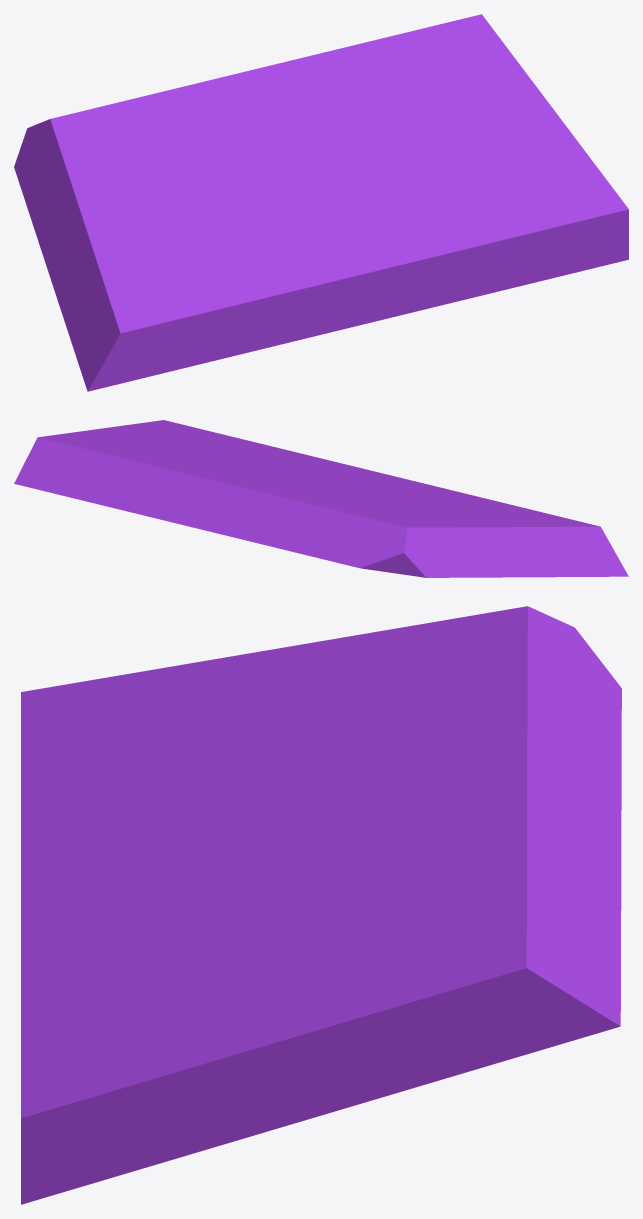
Rendered from Window_156_2_chunks.fbx.
3 views of the same model, one above another, from view 1: azimuth 30°, elevation 25°; view 2: azimuth 150°, elevation 25°; view 3: azimuth 270°, elevation 25° (orthographic). The views are drawn at different scales.
Visible parts, largest first — view 1: Window_156_2_9, Window_156_2_3, Window_156_2_10, Window_156_2_7, Window_156_2_5, Window_156_2_15, Window_156_2_19, Window_156_2_12, Window_156_2_21, Window_156_2_14, Window_156_2_6, Window_156_2_20 (+8 smaller); view 2: Window_156_2_9, Window_156_2_3, Window_156_2_4, Window_156_2_7, Window_156_2_0, Window_156_2_5, Window_156_2_6, Window_156_2_10, Window_156_2_13, Window_156_2_21, Window_156_2_14, Window_156_2_19 (+8 smaller); view 3: Window_156_2_9, Window_156_2_7, Window_156_2_5, Window_156_2_8, Window_156_2_19, Window_156_2_3, Window_156_2_21, Window_156_2_14, Window_156_2_6, Window_156_2_12, Window_156_2_4, Window_156_2_15 (+8 smaller).
Boxes of the visible parts, x1=… form: Window_156_2_9: x1=321, y1=14, x2=586, y2=154; Window_156_2_3: x1=19, y1=164, x2=203, y2=300; Window_156_2_10: x1=84, y1=276, x2=250, y2=391; Window_156_2_7: x1=225, y1=53, x2=384, y2=184; Window_156_2_5: x1=144, y1=76, x2=269, y2=207; Window_156_2_15: x1=354, y1=214, x2=529, y2=303; Window_156_2_19: x1=498, y1=146, x2=628, y2=272; Window_156_2_12: x1=198, y1=232, x2=337, y2=353; Window_156_2_21: x1=343, y1=140, x2=517, y2=212; Window_156_2_14: x1=229, y1=200, x2=381, y2=298; Window_156_2_6: x1=34, y1=105, x2=155, y2=171; Window_156_2_20: x1=405, y1=201, x2=576, y2=283; Window_156_2_9: x1=14, y1=425, x2=222, y2=513; Window_156_2_3: x1=399, y1=503, x2=547, y2=577; Window_156_2_4: x1=285, y1=506, x2=439, y2=577; Window_156_2_7: x1=135, y1=463, x2=329, y2=523; Window_156_2_0: x1=178, y1=495, x2=332, y2=561; Window_156_2_5: x1=256, y1=487, x2=413, y2=519; Window_156_2_6: x1=339, y1=508, x2=455, y2=557; Window_156_2_10: x1=488, y1=499, x2=628, y2=576; Window_156_2_13: x1=451, y1=505, x2=576, y2=569; Window_156_2_21: x1=173, y1=441, x2=313, y2=474; Window_156_2_14: x1=342, y1=472, x2=424, y2=499; Window_156_2_19: x1=133, y1=420, x2=220, y2=441; Window_156_2_9: x1=167, y1=833, x2=621, y2=1102; Window_156_2_7: x1=240, y1=752, x2=621, y2=907; Window_156_2_5: x1=251, y1=686, x2=567, y2=801; Window_156_2_8: x1=21, y1=1058, x2=364, y2=1204; Window_156_2_19: x1=21, y1=997, x2=229, y2=1194; Window_156_2_3: x1=166, y1=627, x2=402, y2=749; Window_156_2_21: x1=99, y1=868, x2=267, y2=1020; Window_156_2_14: x1=21, y1=773, x2=226, y2=910; Window_156_2_6: x1=364, y1=606, x2=546, y2=703; Window_156_2_12: x1=21, y1=749, x2=186, y2=868; Window_156_2_4: x1=504, y1=615, x2=621, y2=741; Window_156_2_15: x1=21, y1=882, x2=137, y2=1003.
Bounding box in the file's own units: 1129 × 275 × 632.
